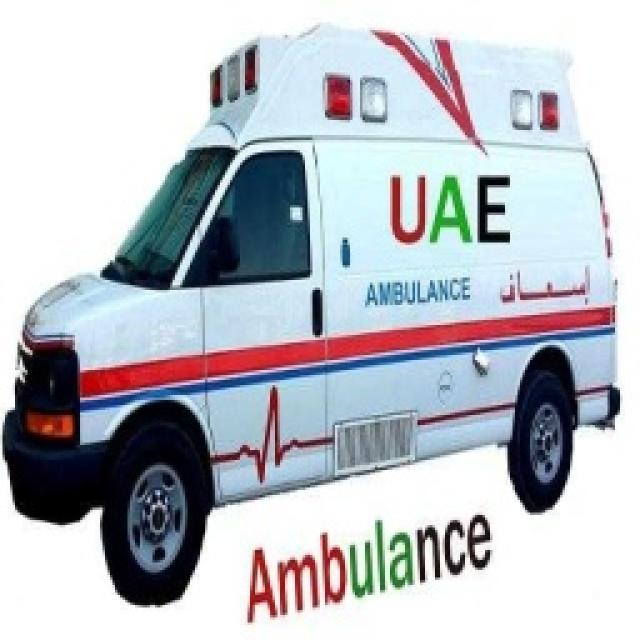emergency-vehicle: (12, 23, 614, 593)
